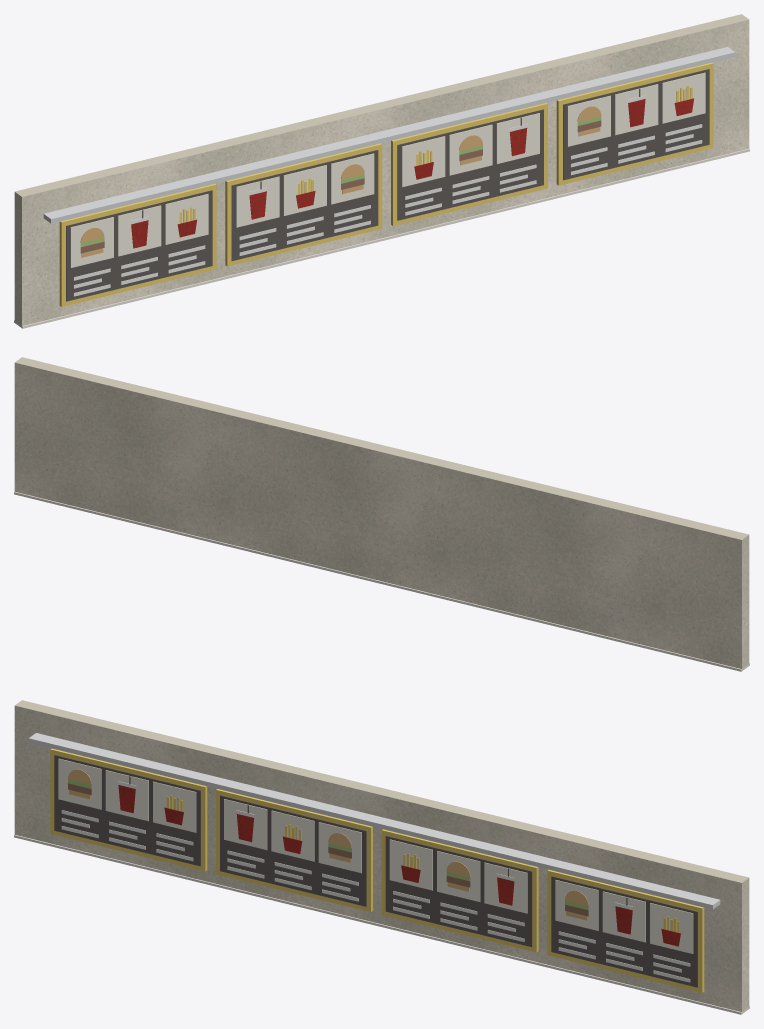
The model's file is menu_header.glb.
3 views of the same model, one above another, from view 1: azimuth 30°, elevation 25°; view 2: azimuth 150°, elevation 25°; view 3: azimuth 330°, elevation 25° (orthographic).
Visible parts, largest first — view 1: menu_header_plaster, menu_header_menu, menu_header_menu_lit, menu_header_accent, menu_header_steel, menu_header_paint_w, menu_header_red, menu_header_trim, menu_header_bun, menu_header_cheese, menu_header_patty; view 2: menu_header_plaster, menu_header_trim; view 3: menu_header_plaster, menu_header_menu, menu_header_menu_lit, menu_header_accent, menu_header_steel, menu_header_paint_w, menu_header_red, menu_header_trim, menu_header_bun, menu_header_cheese, menu_header_patty.
Part boxes in pixels (x1,y1,x2,y2): menu_header_plaster: (14, 14, 749, 325); menu_header_menu: (66, 69, 709, 301); menu_header_menu_lit: (70, 72, 705, 267); menu_header_accent: (59, 62, 713, 306); menu_header_steel: (43, 47, 735, 223); menu_header_paint_w: (73, 124, 702, 296); menu_header_red: (131, 98, 693, 248); menu_header_trim: (14, 148, 749, 328); menu_header_bun: (80, 106, 601, 257); menu_header_cheese: (179, 86, 692, 223); menu_header_patty: (80, 120, 601, 253); menu_header_plaster: (14, 357, 749, 668); menu_header_trim: (14, 491, 749, 671); menu_header_plaster: (14, 700, 749, 1011); menu_header_menu: (54, 755, 697, 987); menu_header_menu_lit: (58, 758, 693, 953); menu_header_accent: (50, 748, 704, 992); menu_header_steel: (28, 733, 720, 909); menu_header_paint_w: (61, 810, 690, 982); menu_header_red: (118, 785, 680, 946); menu_header_trim: (14, 834, 749, 1014); menu_header_bun: (68, 769, 588, 920); menu_header_cheese: (166, 795, 679, 932); menu_header_patty: (68, 783, 588, 916).
Bounding box in the file's own units: 6.75 × 1.16 × 0.25.
14 materials, 2 textured.
